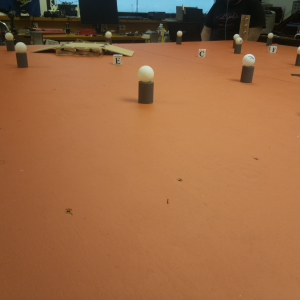obstacle: (135, 66, 154, 104), (240, 53, 255, 81), (14, 42, 29, 68), (5, 31, 15, 52), (234, 38, 242, 53), (176, 29, 183, 45), (106, 32, 113, 45), (233, 34, 240, 44), (268, 32, 273, 45)
side: (56, 47, 101, 57)
slope: (105, 40, 133, 56), (34, 46, 56, 54)
